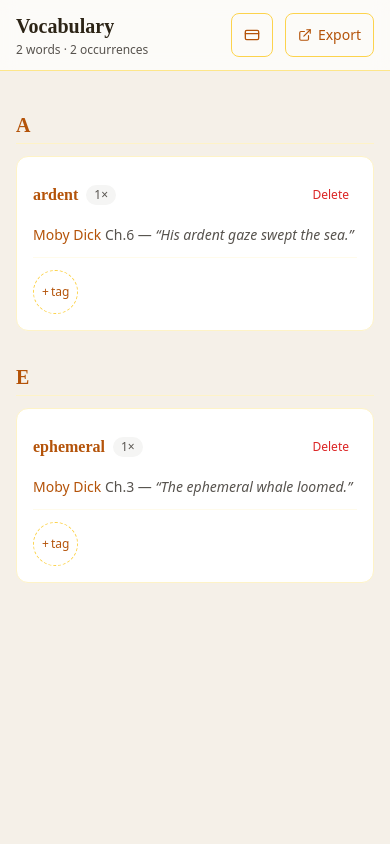
Scenario: export shows error message when export fails
Expected: the button "ephemeral" is shown, [33,425,105,469]
Click the button with test id "export-all-btn". click: (329, 35)
box: [285,13,374,57]
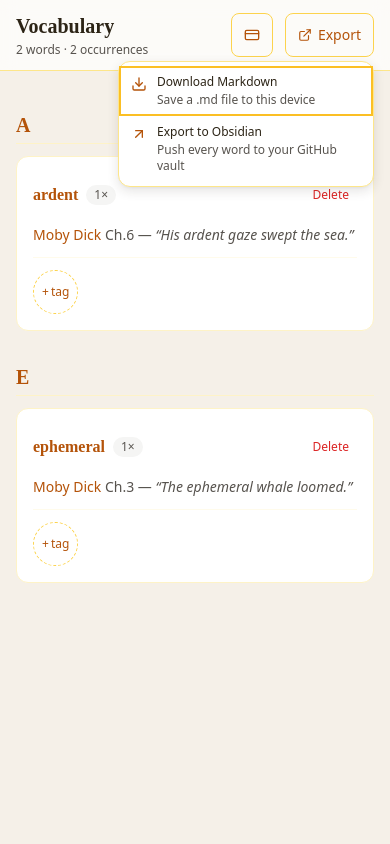
Click the menu item "Export to Obsidian Push every word to your GitHub vault". click: (246, 149)
box: [119,116,373,182]
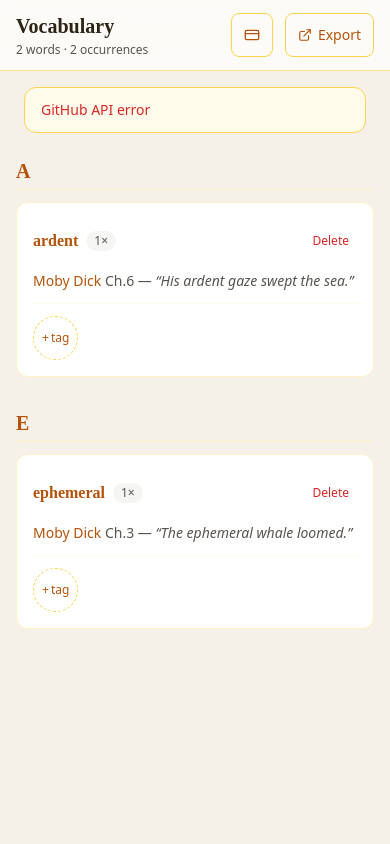
Expected: the text "GitHub API error" is shown, [41,100,150,119]
